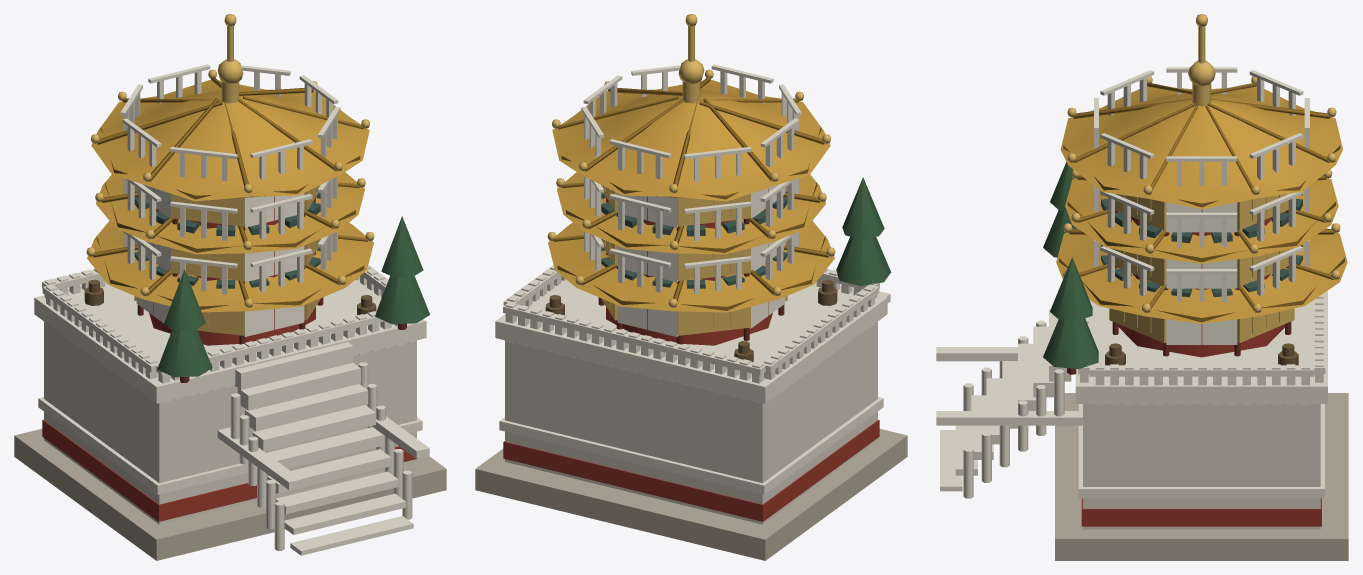
3 renders of one model, left to right at view 1: azimuth 30°, elevation 25°; view 2: azimuth 150°, elevation 25°; view 3: azimuth 270°, elevation 25°, orthographic. The views are drawn at different scales.
Bounding box in the file's own units: 0.4 × 0.605 × 0.4775.
